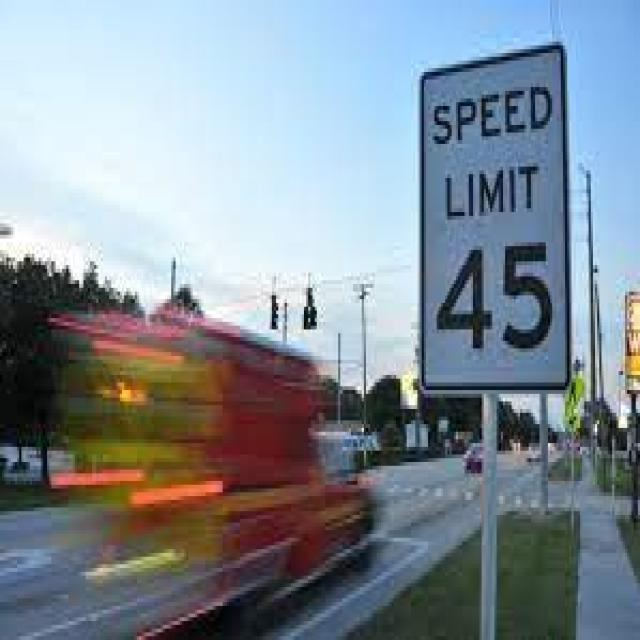Speed Limit Signs: (415, 34, 576, 398)
